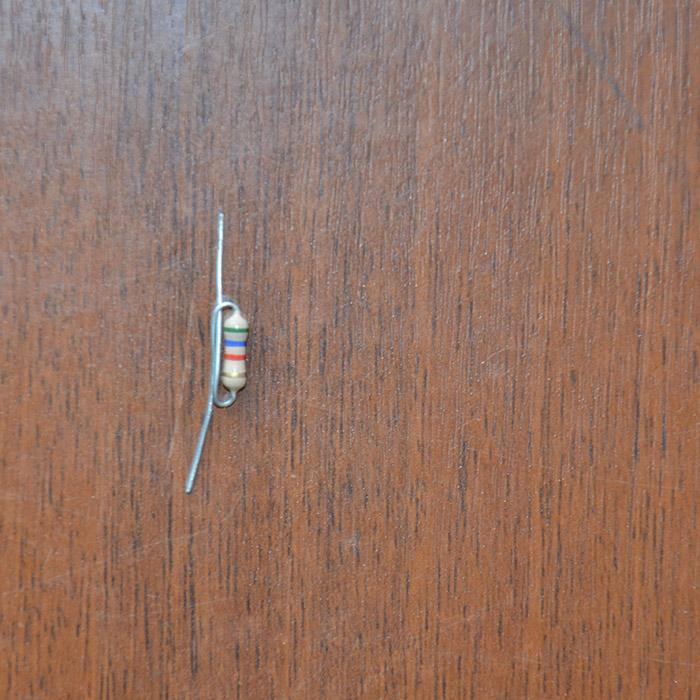resistor: (219, 307, 249, 393)
